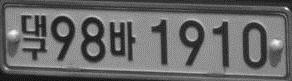0: (242, 21, 267, 69)
1: (148, 18, 174, 65), (209, 20, 235, 67)
8: (79, 16, 106, 62)
9: (49, 14, 75, 60), (179, 20, 205, 65)
대구_V: (20, 13, 48, 61)
바: (110, 21, 136, 61)
